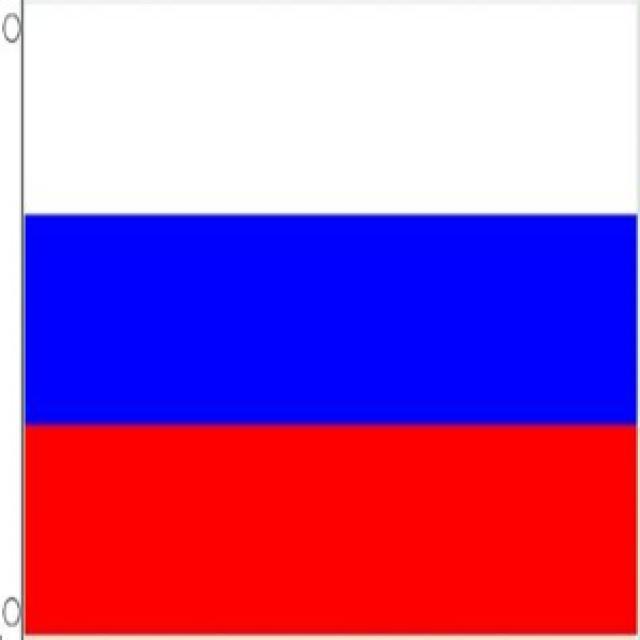russia: (14, 19, 640, 640)
